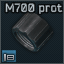Remington M700 thread protection cap Stainless steel: (0, 0, 64, 64)
